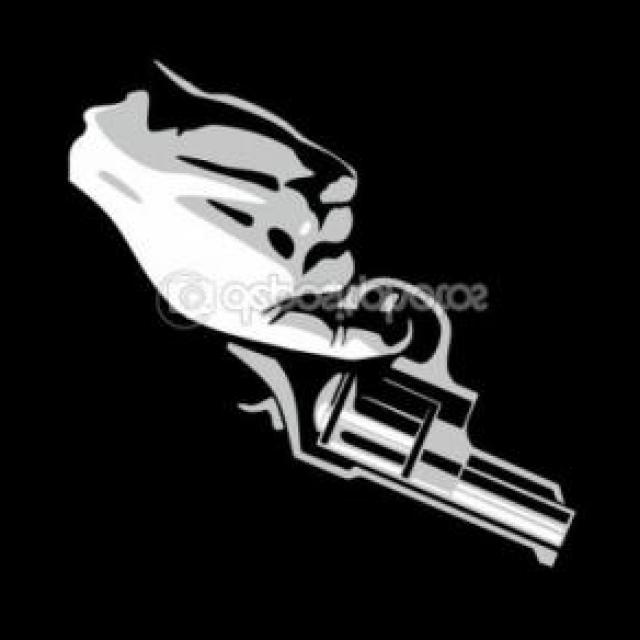pistol: (219, 266, 590, 574)
